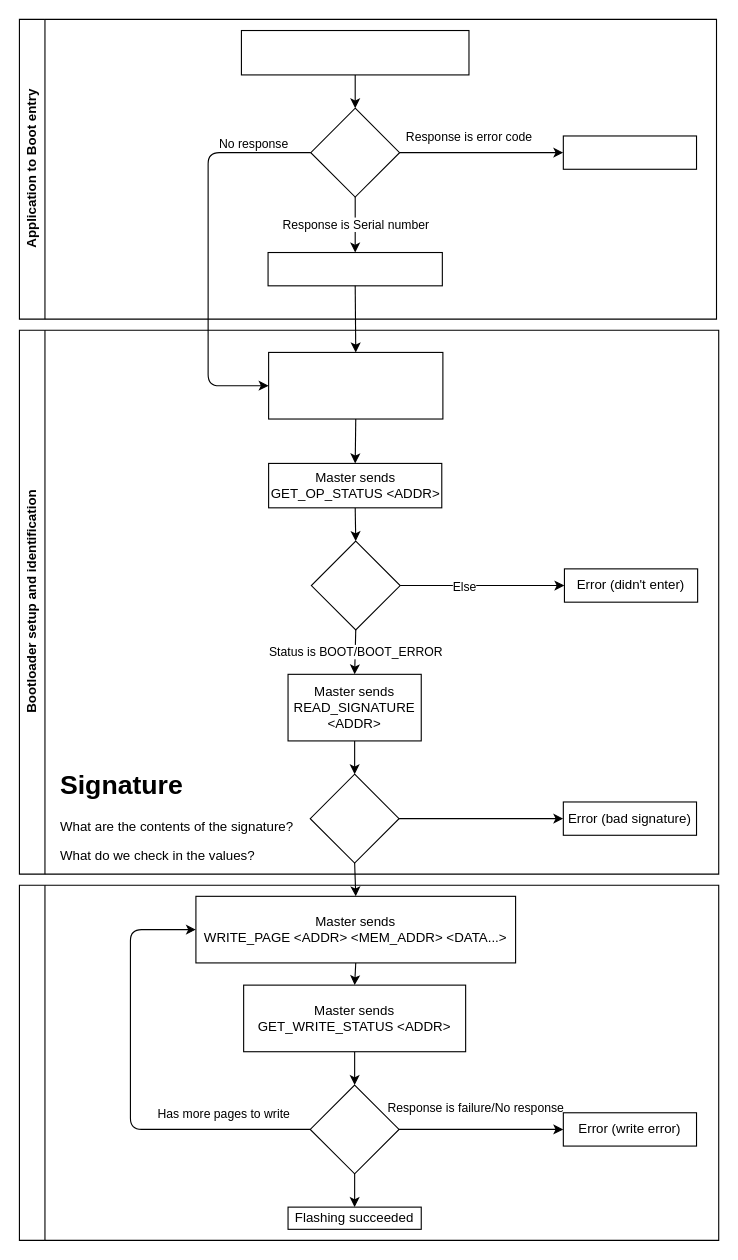
Image size: 738x1260. Some labels were removed from this diagram. Each missing label, with the centre of its shape:
Error (rejected entry): point (629, 152)
Master sends BOOT_ENTRY <ADDR>: point (354, 52)
Master sends COND_CHANGE_ADDR <ADDR> <SERIAL>: point (355, 385)
Wait "bootEntryTime": point (354, 268)
Writing the new application: point (368, 1062)
